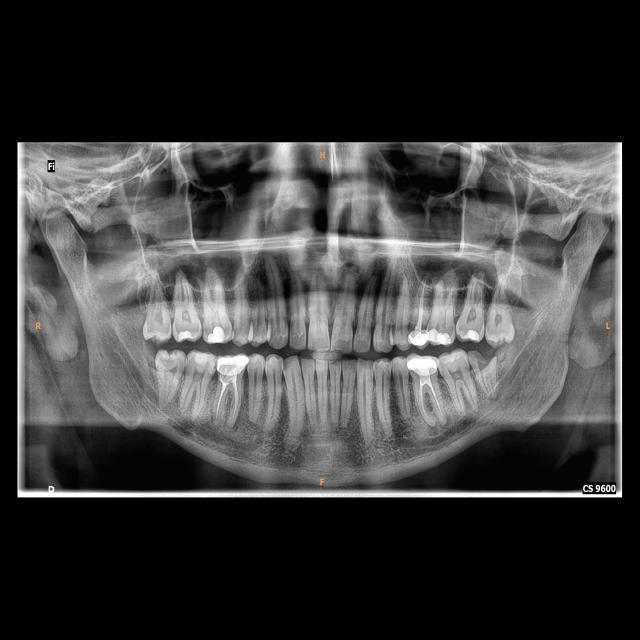dentin-curugu: (470, 343, 501, 376)
dolgu: (202, 327, 232, 348), (174, 321, 198, 344), (426, 329, 455, 347), (459, 323, 483, 343)
kanal-tedavisi: (417, 380, 448, 426), (216, 379, 243, 422), (410, 278, 427, 325)
kaplama: (216, 352, 253, 378), (403, 350, 438, 376), (408, 330, 430, 350)
